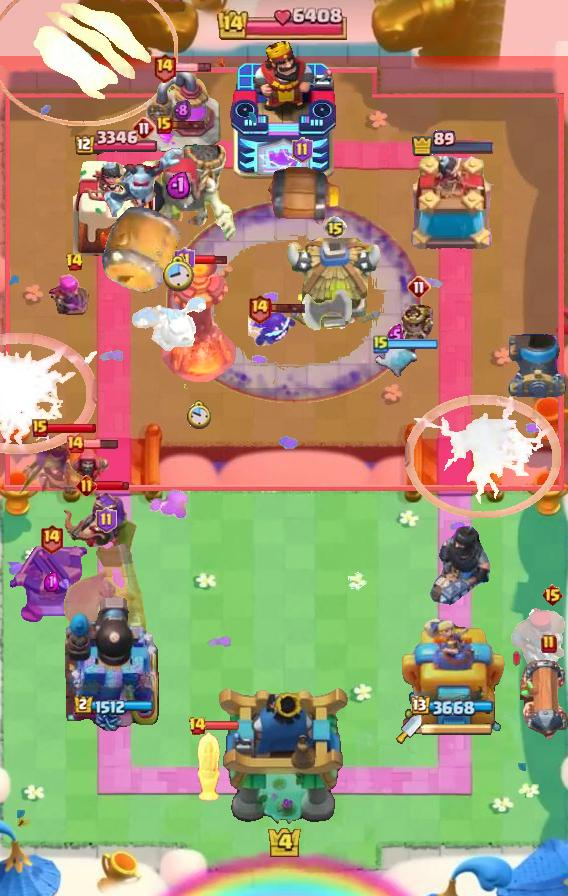bar: (402, 615, 507, 731)
barbarian-evolution: (405, 395, 561, 518), (0, 332, 96, 454)
barbarian-hut: (57, 489, 139, 573), (14, 432, 99, 502)
bat: (373, 344, 417, 382)
battle-healer: (520, 654, 568, 744)
bomber-evolution: (395, 301, 446, 355)
bowler: (64, 447, 112, 499)
clock: (217, 6, 351, 40)
dirt: (99, 203, 183, 297)
electro-dragon: (159, 256, 237, 382)
electro-giant: (117, 129, 239, 245)
electro-spirit: (166, 169, 190, 198), (173, 98, 191, 122), (387, 324, 405, 346), (44, 572, 59, 592)
elixir: (162, 256, 194, 293), (186, 400, 211, 430)
elixir-golem-small: (101, 145, 187, 223)
emote: (45, 422, 97, 434), (386, 339, 438, 349), (192, 254, 228, 267), (170, 119, 207, 131), (269, 302, 306, 314), (83, 438, 119, 450), (94, 480, 130, 492), (175, 63, 212, 74), (204, 721, 240, 732)
evolution-symbol: (48, 268, 100, 324)
executioner: (192, 730, 224, 804)
ice-wizard: (0, 0, 178, 126)
inferno-dragon: (428, 524, 492, 607)
king-tower: (216, 684, 352, 826), (230, 41, 338, 181)
king-tower-bar: (422, 722, 494, 736)
lava-pup: (10, 546, 92, 626)
mini-pekka: (130, 294, 210, 354)
musketeer: (508, 334, 568, 398)
pekka: (143, 72, 221, 154)
phoenix-small: (508, 607, 568, 679)
prince: (284, 238, 386, 334)
queen-tower: (407, 156, 499, 256), (73, 156, 155, 256)
rocket: (166, 200, 422, 404)
royal-giant: (301, 289, 353, 349)
selected: (412, 130, 497, 157), (71, 130, 156, 157), (412, 696, 497, 718), (73, 695, 154, 716)
spear-goblin: (248, 306, 298, 348)
text: (151, 53, 176, 84), (39, 522, 64, 553), (247, 293, 272, 323), (132, 116, 156, 140), (323, 216, 347, 240), (407, 275, 431, 299), (540, 583, 564, 607), (291, 137, 312, 163), (174, 247, 195, 273), (96, 507, 117, 533), (75, 476, 96, 497), (65, 434, 85, 454), (65, 252, 84, 272), (189, 716, 208, 736), (373, 334, 389, 354), (541, 634, 557, 654), (156, 116, 172, 134), (32, 419, 48, 437)
the-log: (262, 167, 342, 227)
tower-bar: (65, 593, 163, 731)
wall-breaker-evolution: (64, 530, 148, 648)
